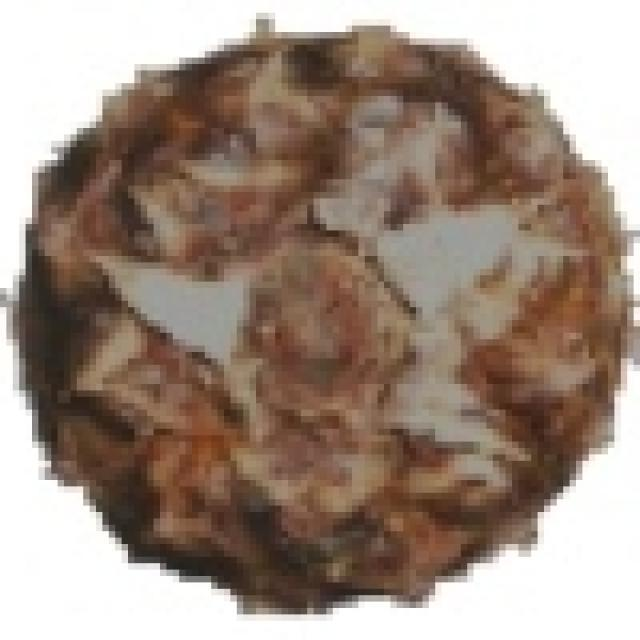pineapple: (32, 13, 634, 595)
